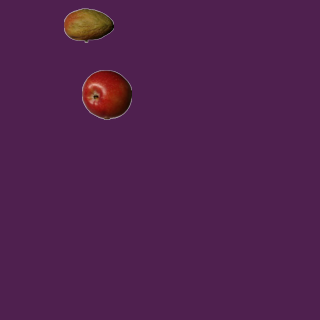Apple Braeburn: (81, 69, 131, 119)
Papaya: (63, 0, 113, 50)
